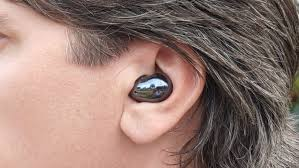earphone: (120, 37, 207, 145)
